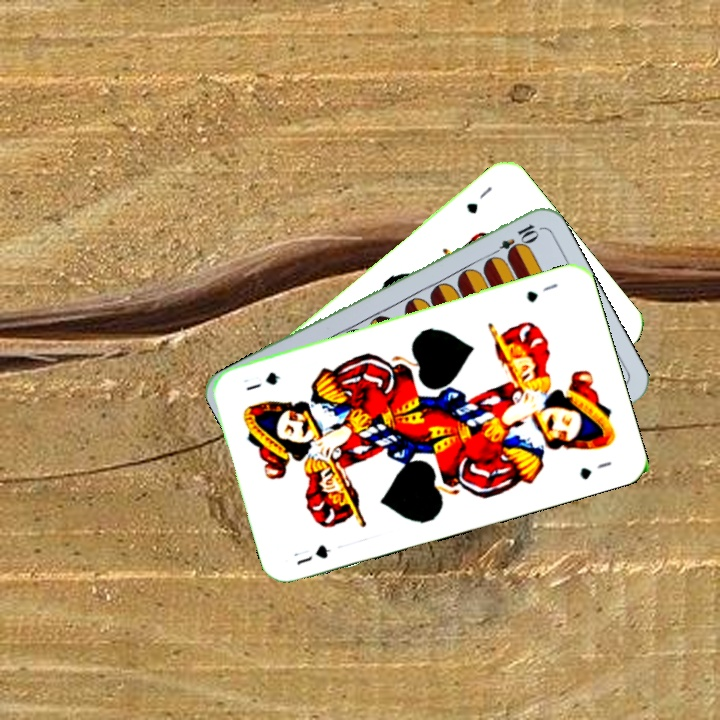E10: (486, 220, 541, 261)
GU: (462, 182, 495, 217), (292, 541, 333, 568), (523, 279, 560, 305)
